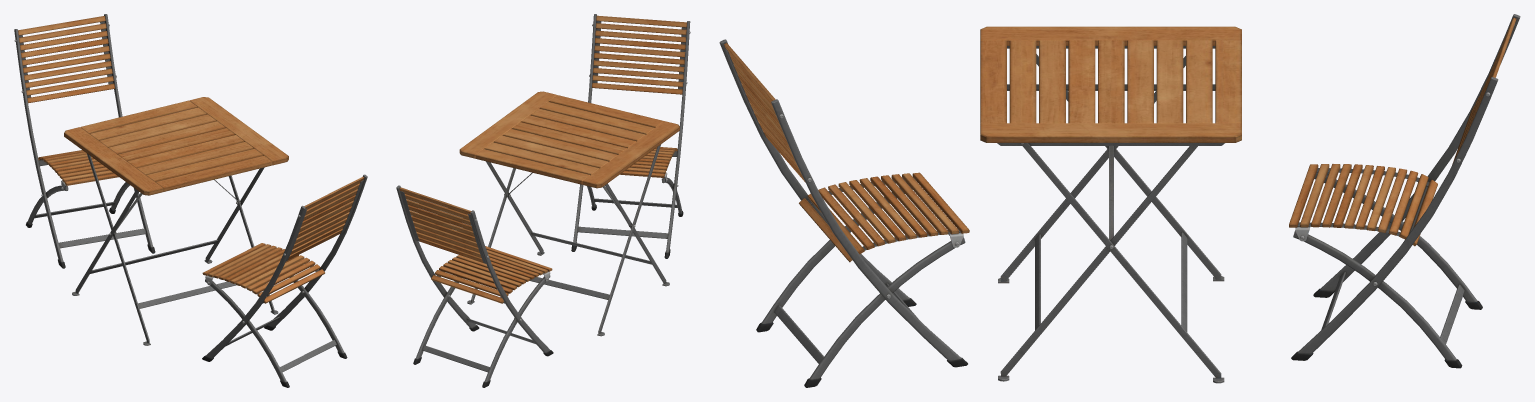
File: outdoor_table_chair_set_01.gltf
3 views of the same model, side by side, from view 1: azimuth 30°, elevation 25°; view 2: azimuth 150°, elevation 25°; view 3: azimuth 270°, elevation 25° (orthographic). The views are drawn at different scales.
Parts seen in each view (by area): view 1: outdoor_table_chair_set_01_table, outdoor_table_chair_set_01_chair_02, outdoor_table_chair_set_01_chair_01; view 2: outdoor_table_chair_set_01_table, outdoor_table_chair_set_01_chair_02, outdoor_table_chair_set_01_chair_01; view 3: outdoor_table_chair_set_01_table, outdoor_table_chair_set_01_chair_01, outdoor_table_chair_set_01_chair_02.
Part boxes in pixels (x1,y1,x2,y2): outdoor_table_chair_set_01_table: [64, 97, 288, 345]; outdoor_table_chair_set_01_chair_02: [14, 14, 155, 268]; outdoor_table_chair_set_01_chair_01: [202, 174, 367, 387]; outdoor_table_chair_set_01_table: [459, 91, 679, 336]; outdoor_table_chair_set_01_chair_02: [396, 185, 553, 387]; outdoor_table_chair_set_01_chair_01: [571, 14, 690, 258]; outdoor_table_chair_set_01_table: [980, 26, 1241, 383]; outdoor_table_chair_set_01_chair_01: [719, 39, 969, 387]; outdoor_table_chair_set_01_chair_02: [1289, 14, 1520, 368].
Bounding box in the file's own units: 0.7417 × 0.8586 × 2.12.
2 materials, 2 textured.
